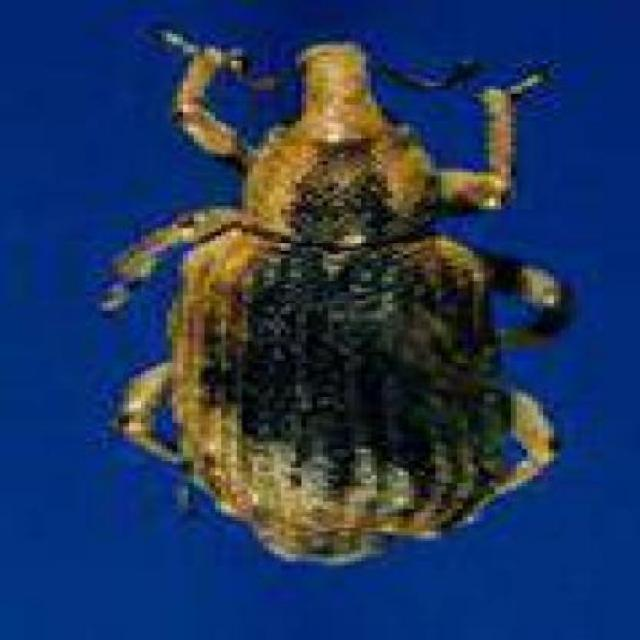rice-bug: (114, 25, 577, 566)
